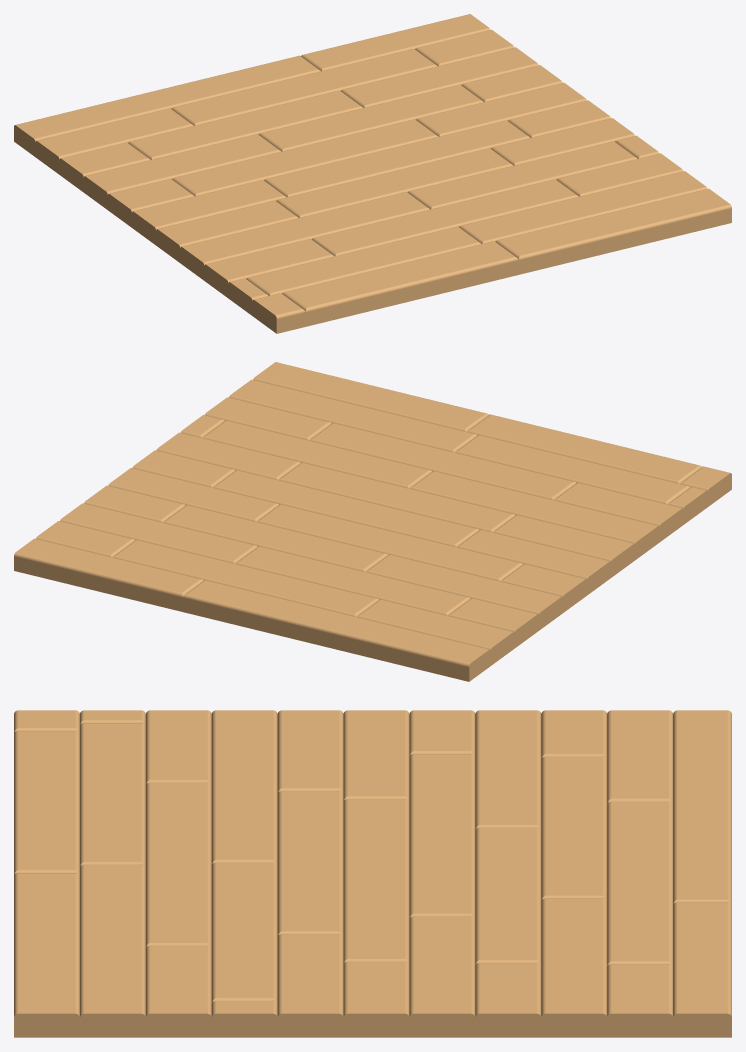
The model's file is Floor.fbx.
3 views of the same model, one above another, from view 1: azimuth 30°, elevation 25°; view 2: azimuth 150°, elevation 25°; view 3: azimuth 270°, elevation 25° (orthographic). The views are drawn at different scales.
Visible parts, largest first — view 1: Plane.005; view 2: Plane.005; view 3: Plane.005.
Boxes of the visible parts, x1,y1,x2,y2 form: Plane.005: (14,14,731,333); Plane.005: (14,362,731,681); Plane.005: (14,710,731,1037).
Bounding box in the file's own units: 503 × 18.5 × 503.
